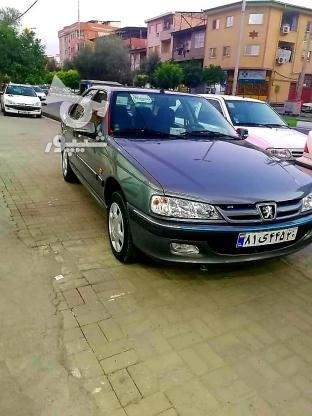car: (235, 225, 300, 251)
